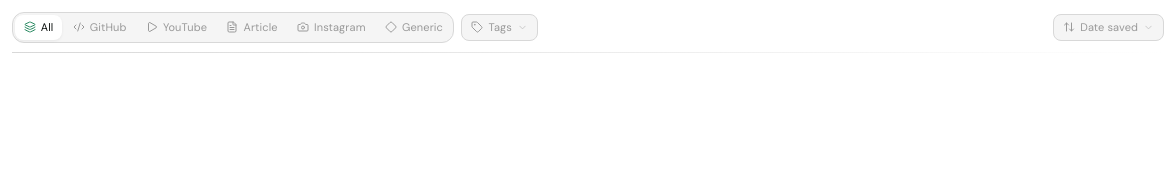
Test: FilterBar › Sort › opens dropdown and shows all sort options
The image size is (1176, 172).
// The trigger contains "Date saved" text
Click the button "Date saved": x=1109, y=28 x1=1053 y1=14 x2=1164 y2=41
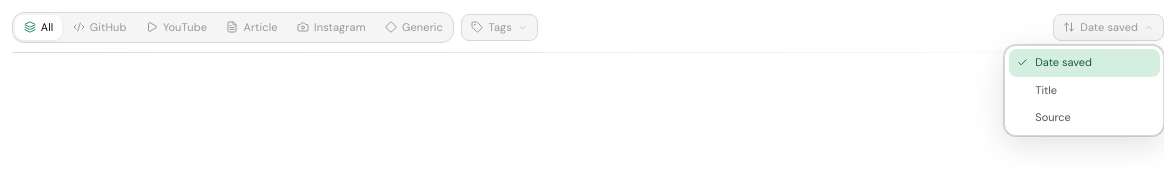
expect the 2nd text "Date saved" is shown: met, box x1=1035 y1=55 x2=1092 y2=70
expect the text "Title" is shown: met, box x1=1035 y1=82 x2=1057 y2=98
expect the text "Source" is shown: met, box x1=1035 y1=110 x2=1071 y2=125
